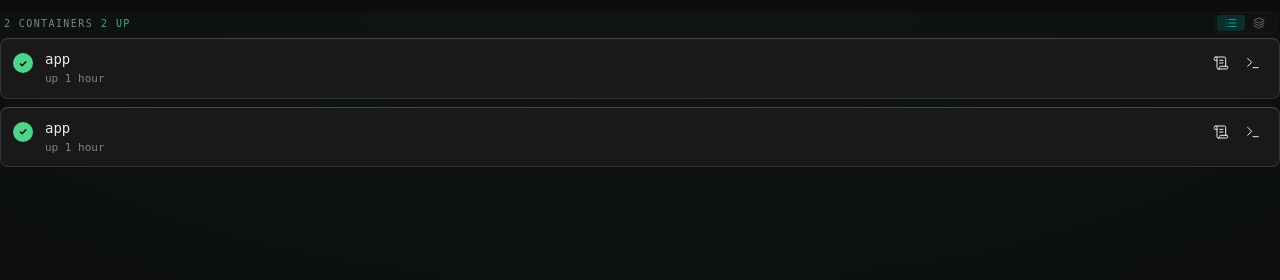
Scenario: density toggle and summary strip › hides sparkline grids in compact mode
Expected: the text "cpu" is not shown
Click the button named "Detailed view": (1259,23) left=1245, top=15, right=1273, bottom=31
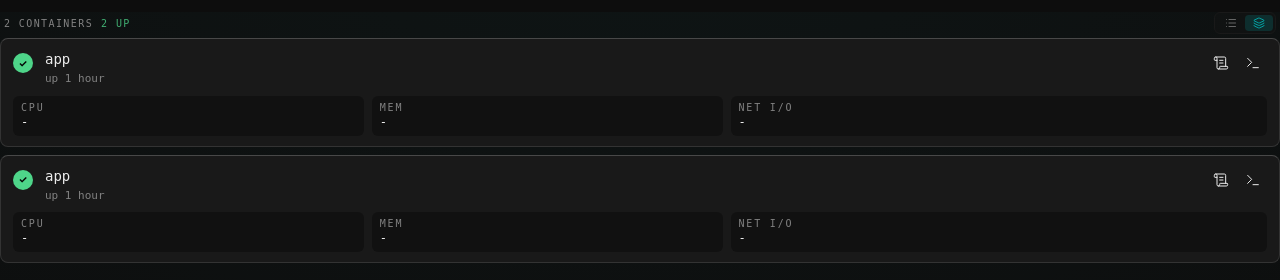
Expected: the text "cpu" is shown 2 times, left=21, top=102, right=44, bottom=114; left=21, top=218, right=44, bottom=230
Click the button named "Compact view": (1231,23) left=1217, top=15, right=1245, bottom=31
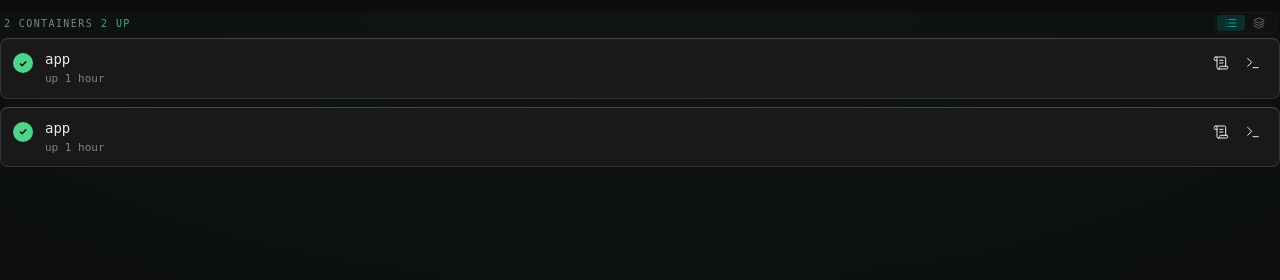
Expected: the text "cpu" is gone
